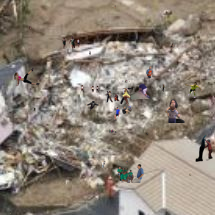Human: (117, 164, 144, 183), (14, 67, 40, 86), (104, 88, 133, 105), (195, 135, 213, 162), (165, 99, 185, 123), (131, 83, 161, 99), (185, 82, 203, 98), (62, 36, 81, 49), (33, 107, 53, 116), (86, 101, 100, 112), (81, 85, 99, 93), (122, 105, 132, 115), (114, 107, 120, 123), (146, 66, 153, 78), (102, 160, 108, 168), (162, 84, 167, 92), (170, 43, 175, 51), (109, 129, 117, 133), (122, 80, 130, 83), (114, 4, 116, 9), (89, 51, 91, 56), (9, 210, 11, 214), (29, 26, 31, 30), (126, 159, 128, 163), (189, 173, 191, 176), (145, 133, 148, 135), (172, 160, 173, 162), (26, 180, 27, 181), (62, 66, 63, 67)
